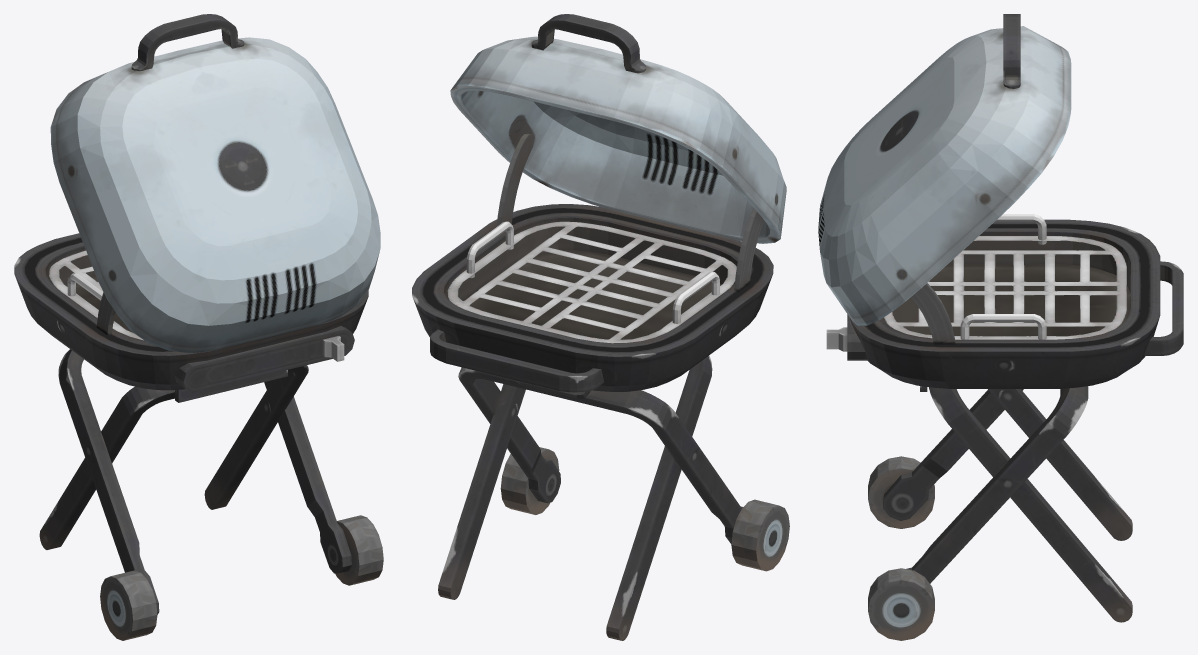
The model's file is P_BBQbox_002_S1_M03.obj.
3 views of the same model, side by side, from view 1: azimuth 30°, elevation 25°; view 2: azimuth 150°, elevation 25°; view 3: azimuth 270°, elevation 25° (orthographic).
Bounding box in the file's own units: 0.7696 × 1.5 × 0.8977.
1 material, 1 textured.
